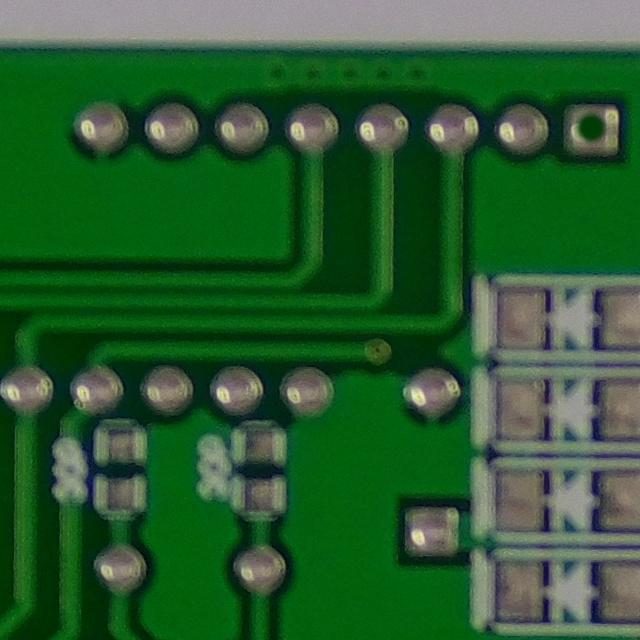missing_hole: (567, 100, 625, 163)
